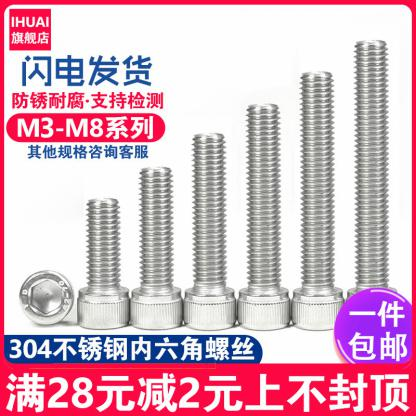FOD: (346, 35, 401, 329), (290, 69, 345, 330), (233, 101, 292, 332), (182, 132, 237, 330), (127, 165, 184, 330), (76, 198, 131, 330), (18, 267, 75, 325)
